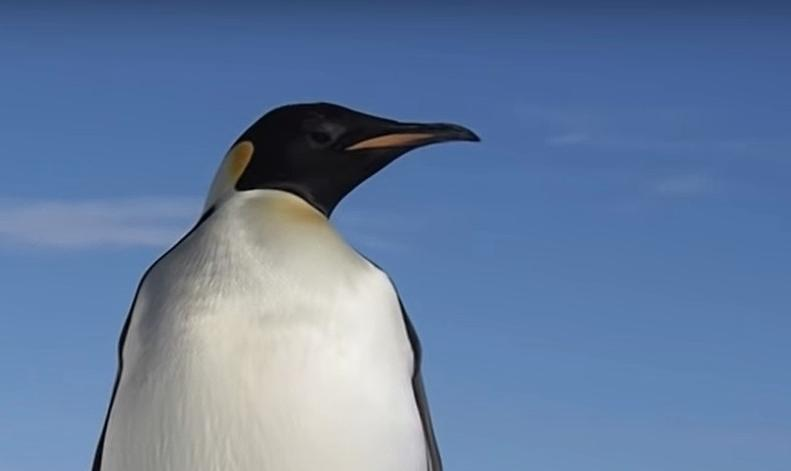Emperor Penguin: (57, 104, 498, 471)
